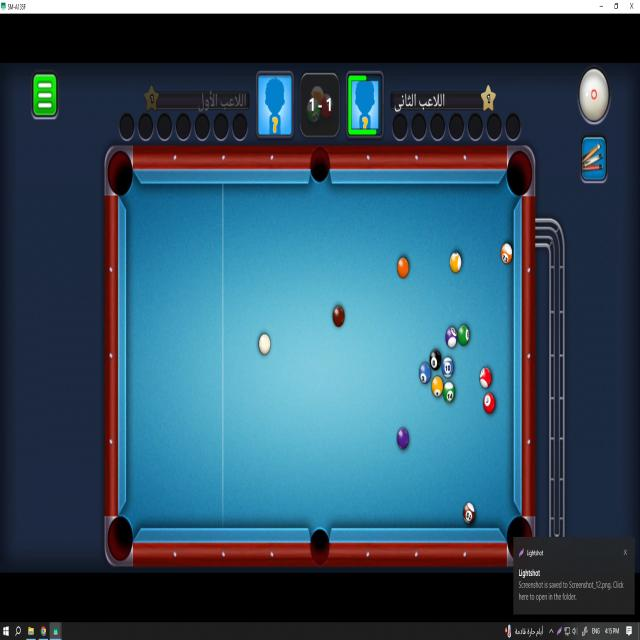object_ball: (457, 325, 470, 346), (397, 427, 409, 449), (446, 326, 458, 348), (332, 306, 344, 327), (397, 257, 408, 278), (442, 357, 453, 378), (432, 376, 443, 397), (450, 252, 461, 273), (501, 243, 512, 264), (480, 368, 491, 388), (484, 393, 495, 413), (464, 502, 474, 524), (430, 350, 441, 370), (420, 363, 430, 383), (444, 382, 454, 402)
white_cue_ball: (258, 332, 272, 356)
